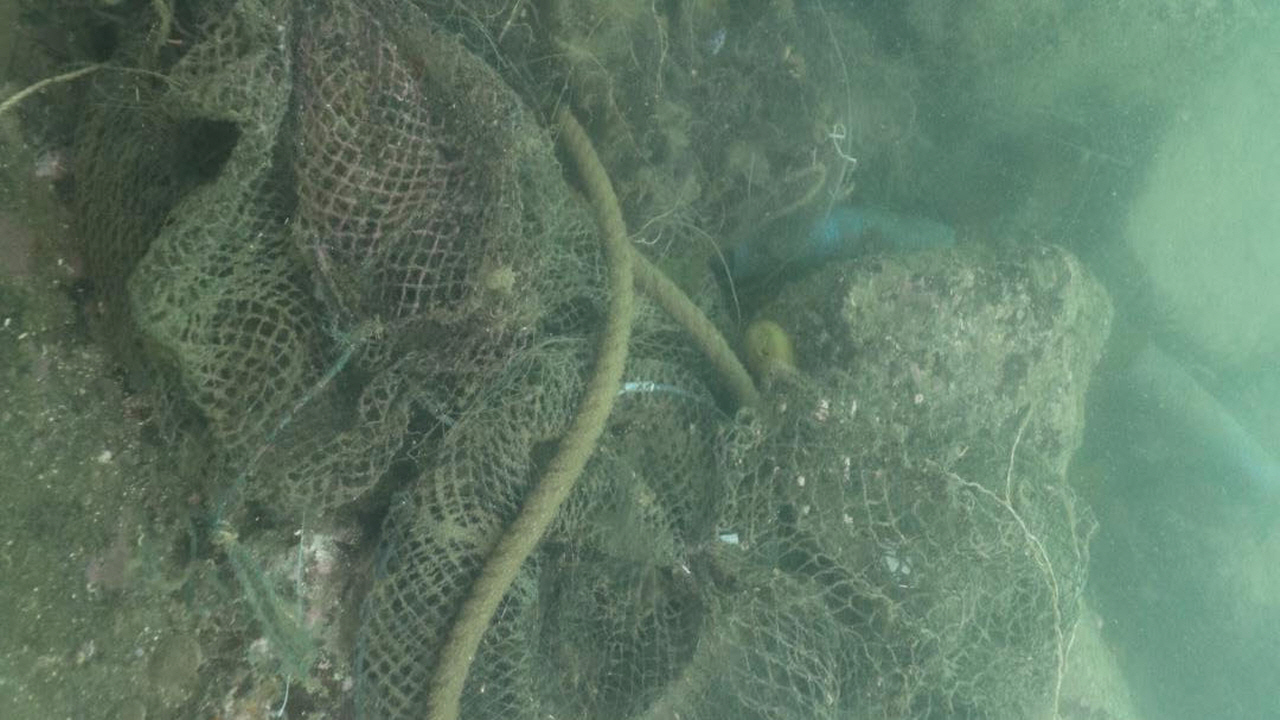fish net: (80, 0, 1085, 720)
rope: (428, 102, 631, 720), (633, 246, 760, 406)
